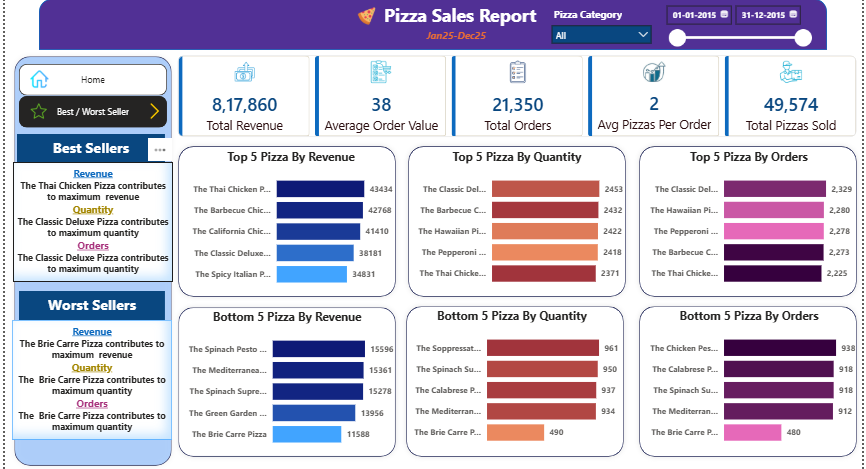

This screenshot's page, from the dashboard's own definition file:
{"tool":"powerbi","page":{"name":"Best / Worst Seller","canvas":[1280,720],"ordinal":1},"visuals":[{"type":"cardVisual","fields":{"Data":["pizza_sales.Total Revenue","pizza_sales.Average Order Value","pizza_sales.Total Orders","pizza_sales.Avg Pizzas Per Order","pizza_sales.Total Pizzas Sold"]},"box":[250.3,94.1,1029.7,132.7],"z":0},{"type":"shape","box":[50.8,14.9,1177.1,76.2],"z":1000},{"type":"textbox","box":[529.1,15.1,302.4,50.4],"z":2000},{"type":"textbox","box":[624.9,53.8,109.2,40.3],"z":3000},{"type":"image","box":[517.4,26.9,47,26.9],"z":4000},{"type":"shape","box":[251,227.1,340.6,240.5],"z":5000},{"type":"shape","box":[6,92.6,251,627.4],"z":6000},{"type":"textbox","box":[17.9,216.6,221.1,41.8],"z":7000},{"type":"textbox","box":[12,258.4,239,179.3],"z":8000},{"type":"textbox","box":[20.9,451.1,218.1,46.3],"z":9000},{"type":"slicer","fields":{"Values":["pizza_sales.pizza_category"]},"box":[806.8,22.7,169.4,61.1],"z":11000},{"type":"slicer","fields":{"Values":["pizza_sales.order_date"]},"box":[975.4,14.9,237.5,83.7],"z":12000},{"type":"shape","box":[251,467.6,340.6,239],"z":13000},{"type":"shape","box":[594.5,227.1,340.6,240.5],"z":14000},{"type":"shape","box":[939.6,227.1,340.6,240.5],"z":15000},{"type":"shape","box":[591.5,466.1,340.6,240.5],"z":16000},{"type":"shape","box":[939.6,466.1,340.6,240.5],"z":17000},{"type":"barChart","title":"Top 5 Pizza By Revenue","fields":{"Category":["pizza_sales.pizza_name"],"Y":["pizza_sales.Total Revenue"]},"box":[262.9,237.5,328.6,219.6],"z":18000},{"type":"barChart","title":"Bottom 5 Pizza By Revenue","fields":{"Category":["pizza_sales.pizza_name"],"Y":["pizza_sales.Total Revenue"]},"box":[256.9,476.5,328.6,219.6],"z":19000},{"type":"barChart","title":"Top 5 Pizza By Quantity","fields":{"Category":["pizza_sales.pizza_name"],"Y":["Sum(pizza_sales.quantity)"]},"box":[600.7,237.5,328.3,218.3],"z":20000},{"type":"barChart","title":"Bottom 5 Pizza By Quantity","fields":{"Category":["pizza_sales.pizza_name"],"Y":["Sum(pizza_sales.quantity)"]},"box":[593.7,475,328.3,218.3],"z":21000},{"type":"barChart","title":"Top 5 Pizza By Orders","fields":{"Category":["pizza_sales.pizza_name"],"Y":["pizza_sales.Total Orders"]},"box":[946.5,237.5,328.3,218.3],"z":22000},{"type":"barChart","title":"Bottom 5 Pizza By Orders","fields":{"Category":["pizza_sales.pizza_name"],"Y":["pizza_sales.Total Orders"]},"box":[946.5,475,328.3,218.3],"z":23000},{"type":"pageNavigator","box":[20.9,112,221.1,47.8],"z":24000},{"type":"textbox","box":[10.5,494.4,239,179.3],"z":24001},{"type":"pageNavigator","box":[20.9,159.8,221.1,47.8],"z":24002},{"type":"image","box":[207.6,170.3,31.4,23.9],"z":24003},{"type":"image","box":[14.9,121,73.2,26.9],"z":24004},{"type":"image","box":[16.4,170.3,67.2,23.9],"z":24005}]}

Visuals, with their boxes on the page's 1280x720 design canvas (x1, y1, x2, y2). These are canvas units, not pixel positions in the 866x469 screenshot, which may show the page scaled, cropped or inside an application window:
cardVisual - pizza_sales.Total Revenue x pizza_sales.Average Order Value: rect(250, 94, 1280, 227)
shape: rect(51, 15, 1228, 91)
textbox: rect(529, 15, 832, 66)
textbox: rect(625, 54, 734, 94)
image: rect(517, 27, 564, 54)
shape: rect(251, 227, 592, 468)
shape: rect(6, 93, 257, 720)
textbox: rect(18, 217, 239, 258)
textbox: rect(12, 258, 251, 438)
textbox: rect(21, 451, 239, 497)
slicer - pizza_sales.pizza_category: rect(807, 23, 976, 84)
slicer - pizza_sales.order_date: rect(975, 15, 1213, 99)
shape: rect(251, 468, 592, 707)
shape: rect(594, 227, 935, 468)
shape: rect(940, 227, 1280, 468)
shape: rect(592, 466, 932, 707)
shape: rect(940, 466, 1280, 707)
"Top 5 Pizza By Revenue" barChart: rect(263, 238, 592, 457)
"Bottom 5 Pizza By Revenue" barChart: rect(257, 476, 586, 696)
"Top 5 Pizza By Quantity" barChart: rect(601, 238, 929, 456)
"Bottom 5 Pizza By Quantity" barChart: rect(594, 475, 922, 693)
"Top 5 Pizza By Orders" barChart: rect(946, 238, 1275, 456)
"Bottom 5 Pizza By Orders" barChart: rect(946, 475, 1275, 693)
pageNavigator: rect(21, 112, 242, 160)
textbox: rect(10, 494, 250, 674)
pageNavigator: rect(21, 160, 242, 208)
image: rect(208, 170, 239, 194)
image: rect(15, 121, 88, 148)
image: rect(16, 170, 84, 194)
